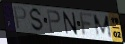F: (78, 12, 94, 38)
M: (92, 14, 114, 39)
N: (62, 10, 79, 36)
P: (46, 9, 61, 34), (13, 6, 27, 30)
S: (29, 7, 44, 33)
